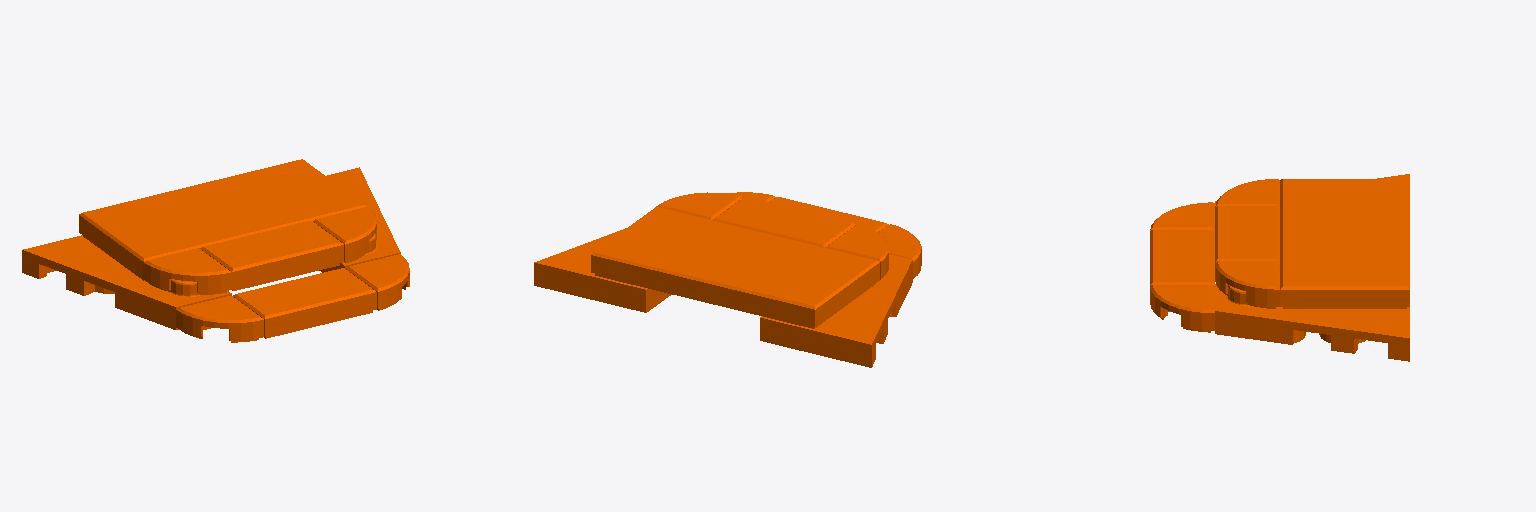
File: motorhaube_gelb.obj
3 renders of one model, left to right at view 1: azimuth 30°, elevation 25°; view 2: azimuth 150°, elevation 25°; view 3: azimuth 270°, elevation 25°, orthographic.
Parts seen in each view (by area): view 1: Part.135, Part.117, Part.68, Part.69, Part.28, Part.30, Part.118, Part.27, Part.29; view 2: Part.135, Part.117, Part.118, Part.69, Part.30, Part.29, Part.28, Part.68; view 3: Part.135, Part.118, Part.68, Part.69, Part.27, Part.29, Part.28, Part.30.
Boxes of the visible parts, <box> form: Part.135: <box>79,159,366,280</box>; Part.117: <box>22,235,231,329</box>; Part.68: <box>233,268,376,338</box>; Part.69: <box>200,221,343,290</box>; Part.28: <box>176,295,263,342</box>; Part.30: <box>143,248,231,294</box>; Part.118: <box>319,167,400,272</box>; Part.27: <box>345,254,409,310</box>; Part.29: <box>313,207,376,262</box>; Part.135: <box>591,207,879,328</box>; Part.117: <box>760,254,912,367</box>; Part.118: <box>534,228,671,312</box>; Part.69: <box>713,197,855,247</box>; Part.30: <box>826,224,888,280</box>; Part.29: <box>656,192,743,219</box>; Part.28: <box>879,224,921,278</box>; Part.68: <box>769,197,888,232</box>; Part.135: <box>1280,179,1409,308</box>; Part.118: <box>1215,284,1409,361</box>; Part.68: <box>1150,230,1214,285</box>; Part.69: <box>1215,206,1279,261</box>; Part.27: <box>1150,285,1214,332</box>; Part.29: <box>1215,261,1279,308</box>; Part.28: <box>1150,202,1214,230</box>; Part.30: <box>1215,179,1279,206</box>.
Size of the model in its own units: 47.92 by 6.36 by 31.96.